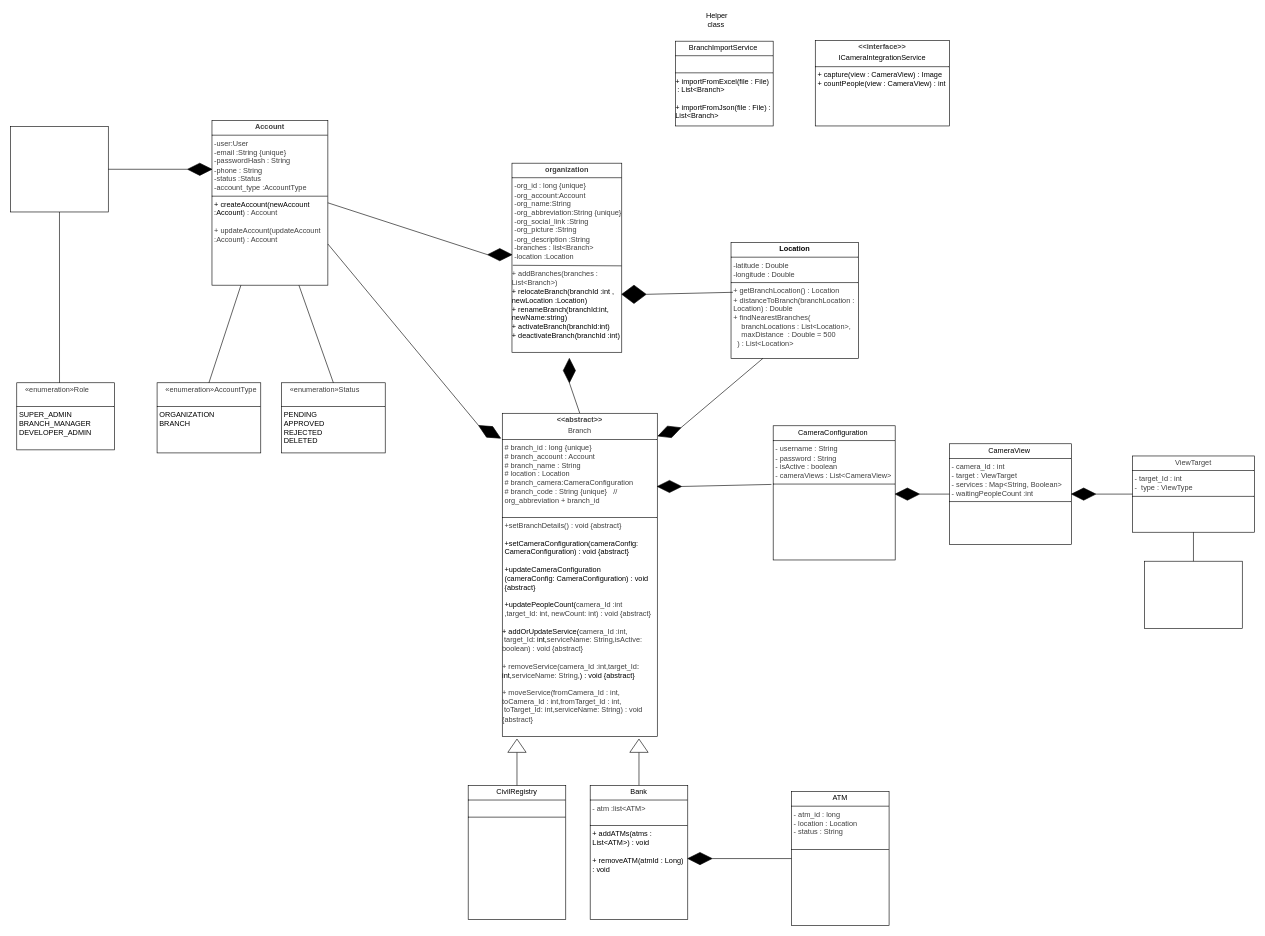
Image size: 1265x936. Some labels were removed from this diagram. The centre of each missing label's shape, as x and y in pixels:
User -name : String -role : Role + getName() : String + getRole() : Role: [59,169]
«enumeration» ViewType WINDOW ATM: [1193,594]
